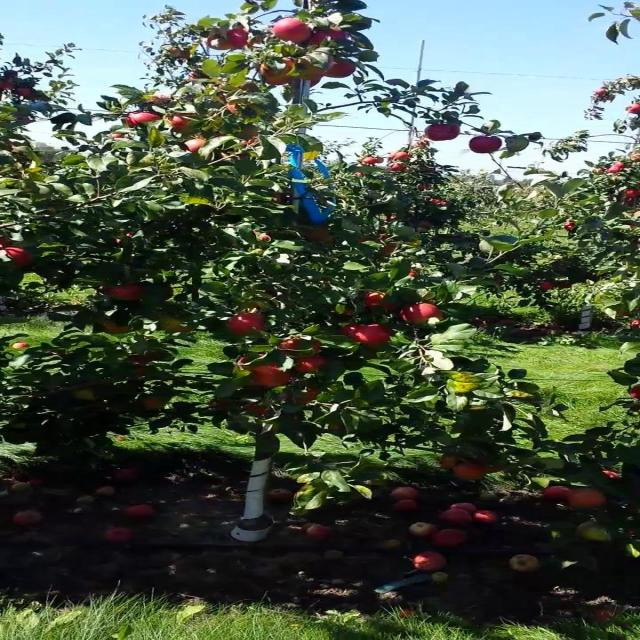apple: (241, 360, 293, 389), (348, 324, 395, 348), (205, 28, 251, 52), (227, 312, 270, 337), (269, 20, 313, 44), (276, 336, 325, 357), (99, 284, 148, 303), (404, 304, 446, 326), (568, 488, 610, 509), (362, 292, 398, 313), (298, 56, 325, 83), (468, 136, 505, 155), (426, 124, 462, 143), (170, 112, 199, 135), (262, 60, 297, 79), (298, 356, 331, 375), (326, 60, 357, 80), (127, 356, 158, 376), (163, 316, 197, 334), (6, 248, 36, 268), (127, 112, 164, 128), (99, 320, 135, 336), (454, 464, 487, 481), (369, 236, 398, 255), (312, 32, 348, 47), (298, 64, 325, 84), (262, 72, 295, 87), (305, 228, 334, 244), (241, 128, 261, 148), (70, 388, 100, 401), (298, 388, 320, 404), (113, 232, 135, 248), (184, 140, 208, 154), (227, 104, 254, 115), (547, 488, 571, 500), (440, 456, 462, 469), (141, 400, 167, 411), (248, 404, 270, 417), (227, 104, 247, 115), (20, 88, 36, 100), (604, 472, 622, 481), (6, 236, 16, 248), (6, 72, 21, 80), (6, 84, 16, 91)
